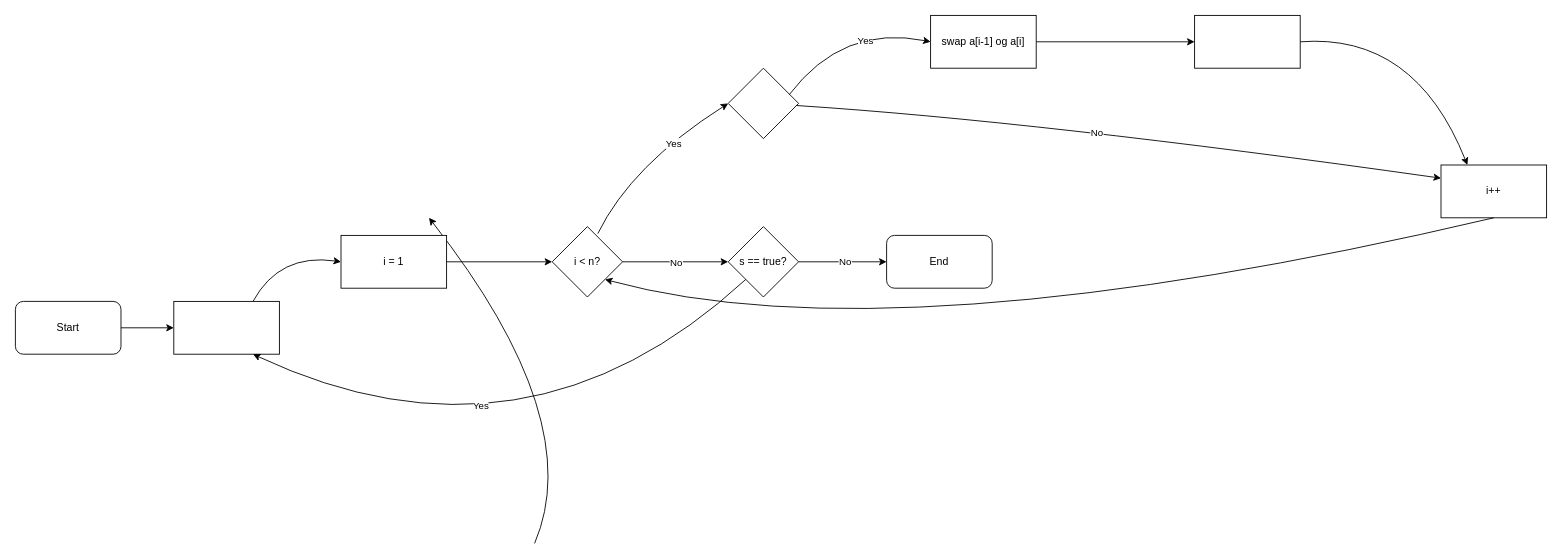
Image size: 1562x559. Some labels were removed from this diagram. Here are the shapes that lost their labels. From the top down, the box of each, then its label:
(1194, 15, 1300, 68): sæt s = true
(727, 67, 799, 139): !ok a[i-1], a[i]?
(173, 301, 279, 354): sæt s = false
